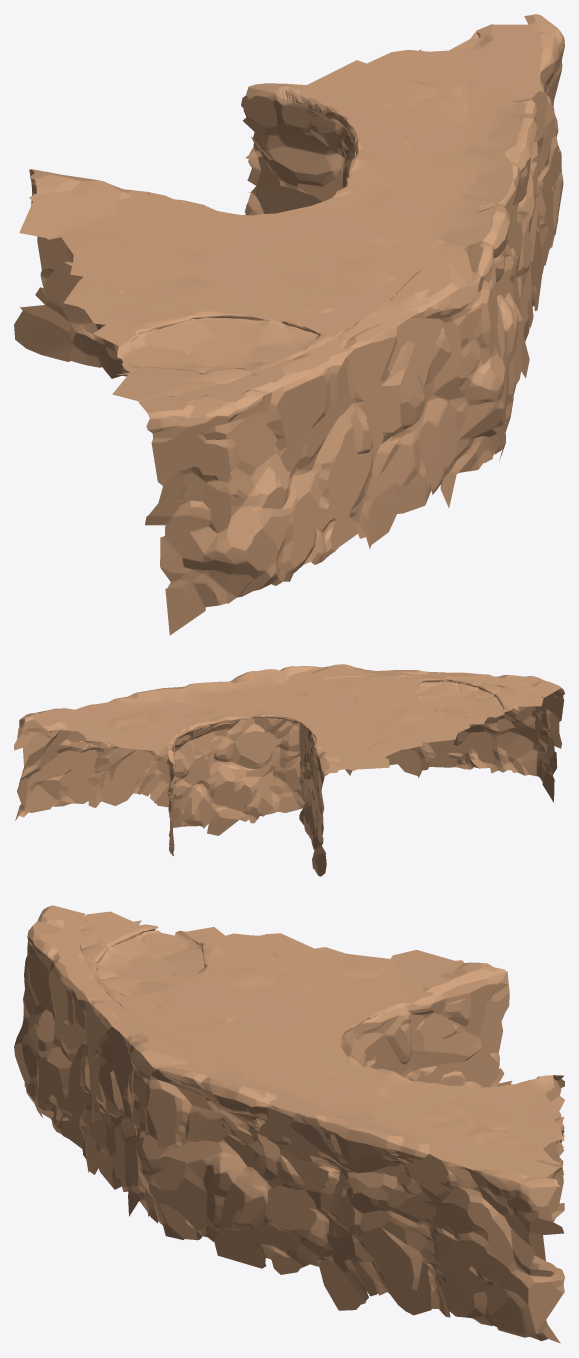
The model's file is SandstoneBig_Mesh_2_001LODs.fbx.
3 renders of one model, top to bottom at view 1: azimuth 30°, elevation 25°; view 2: azimuth 150°, elevation 25°; view 3: azimuth 270°, elevation 25°, orthographic. The views are drawn at different scales.
Parts seen in each view (by area): view 1: Mesh_2.001_LOD0; view 2: Mesh_2.001_LOD0; view 3: Mesh_2.001_LOD0.
Part boxes in pixels (x1,y1,x2,y2): Mesh_2.001_LOD0: (14, 14, 564, 635); Mesh_2.001_LOD0: (14, 664, 564, 876); Mesh_2.001_LOD0: (14, 905, 564, 1343).
Size of what is drawn, in the model's own units: 13617 by 4255 by 11201.
